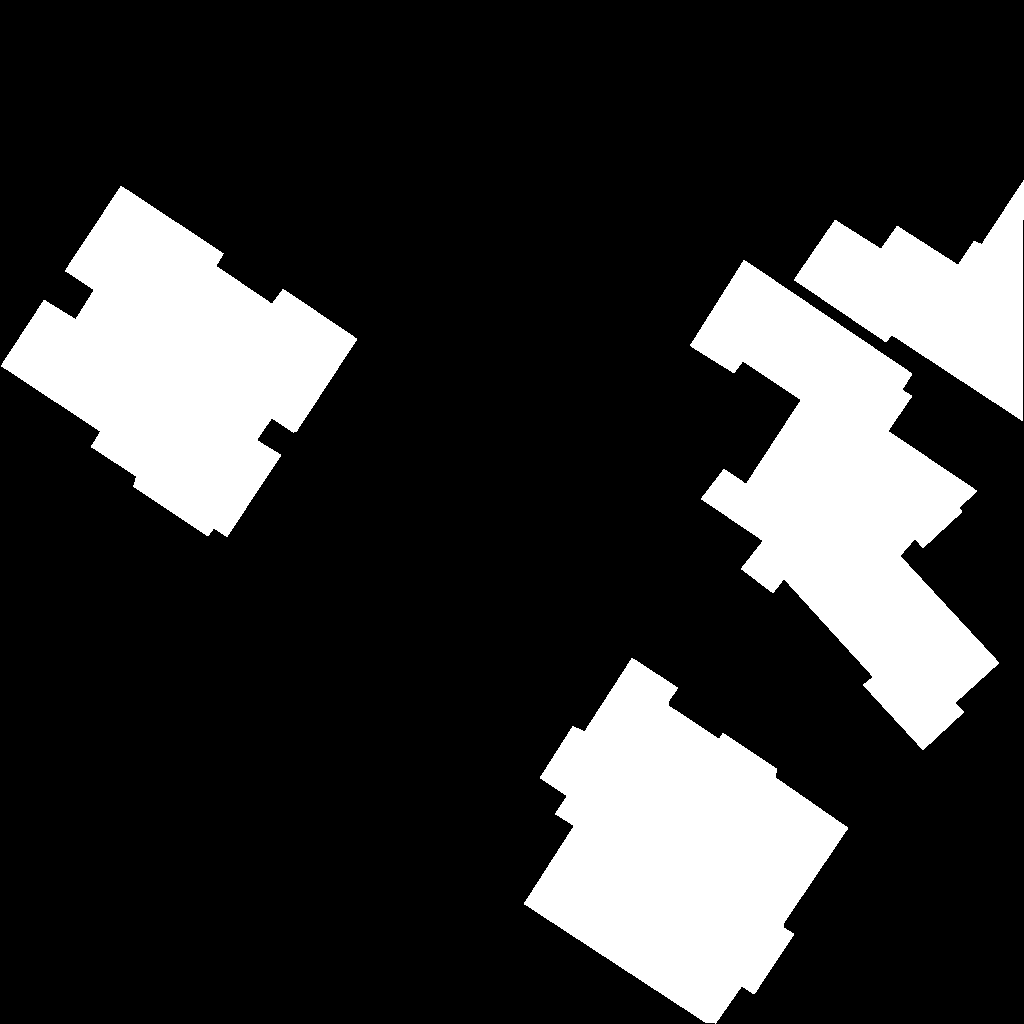building: (690, 260, 1000, 751), (1, 186, 358, 538), (524, 658, 849, 1024), (794, 180, 1024, 422)
